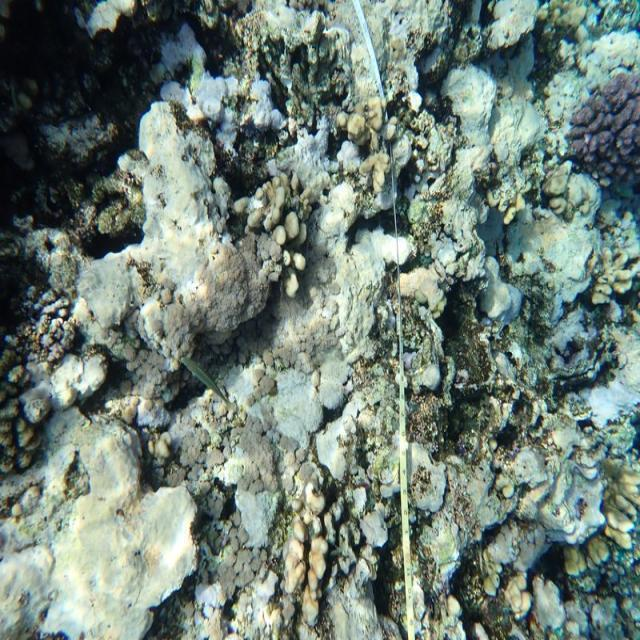Bleached Coral: (185, 64, 289, 148), (292, 120, 364, 182)
